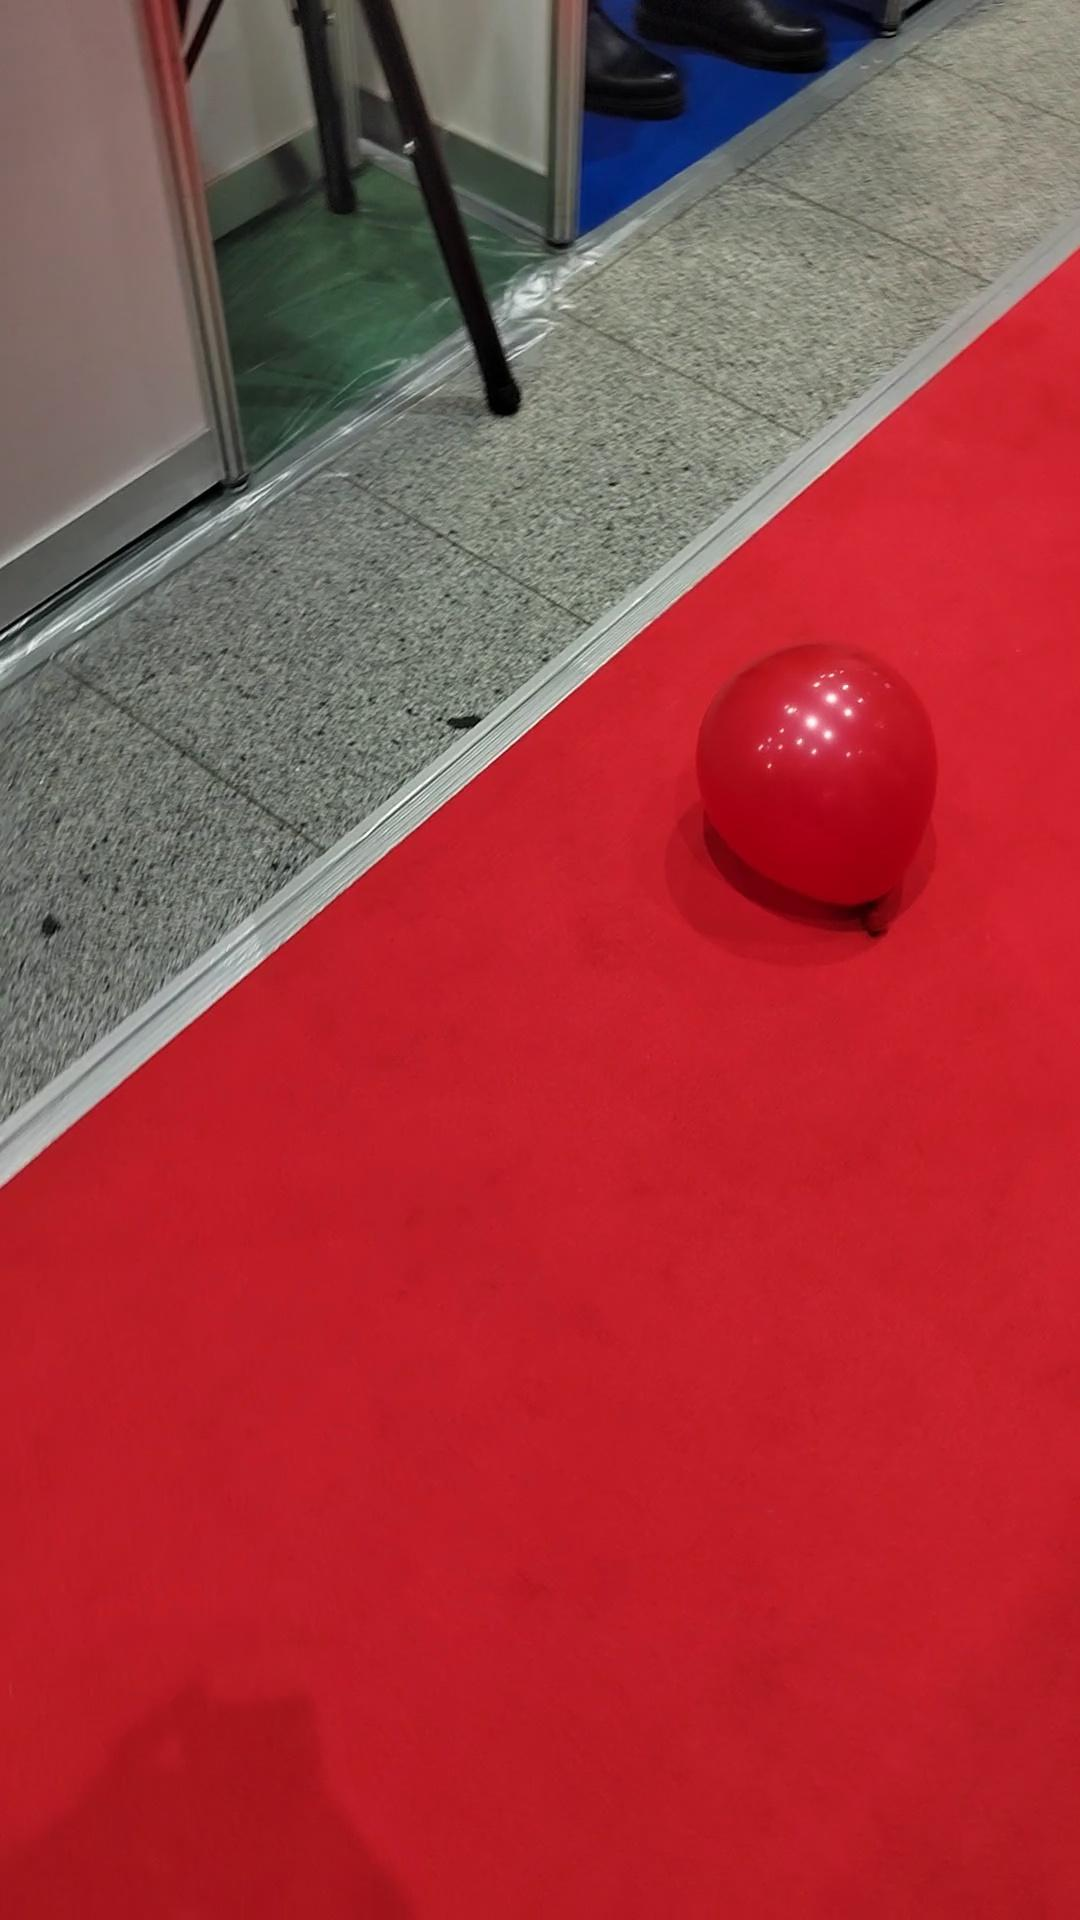red: (683, 634, 944, 915)
